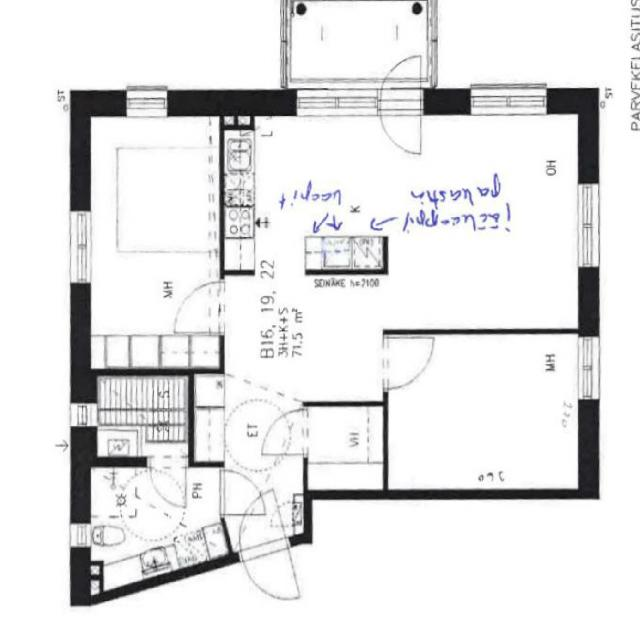door: (228, 488, 288, 560), (241, 538, 300, 610), (380, 89, 421, 159), (380, 45, 421, 114), (383, 336, 436, 389), (174, 282, 224, 332), (263, 410, 308, 454), (220, 470, 264, 514), (150, 456, 186, 506)
